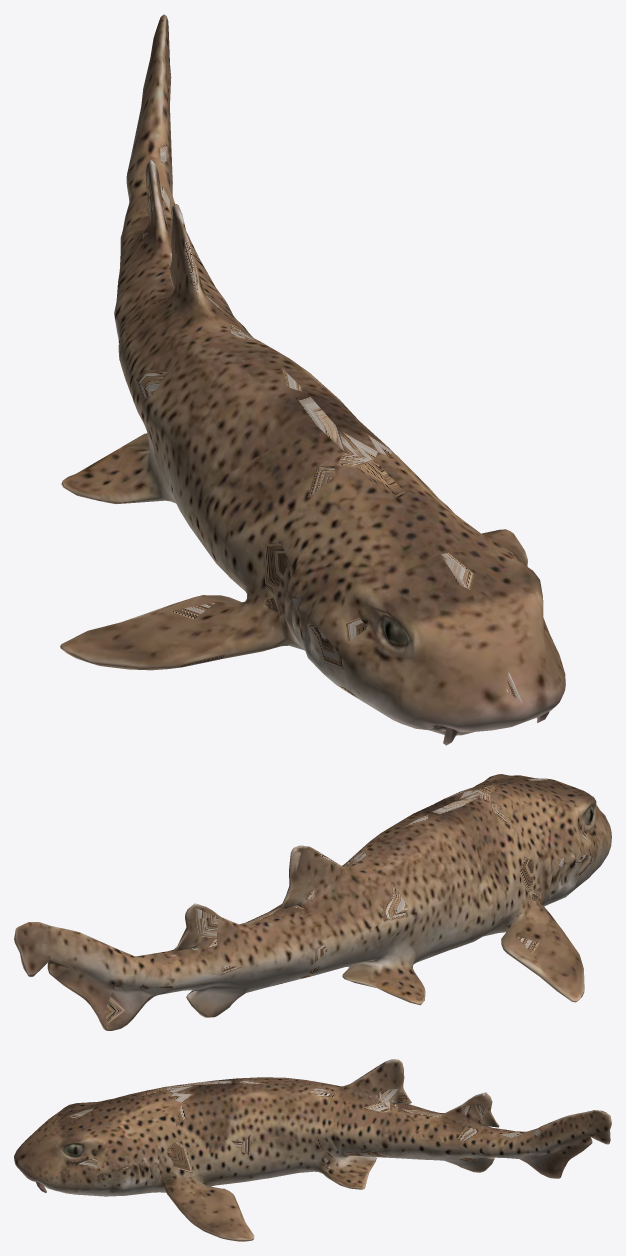
Rendered from kathaai.glb.
3 renders of one model, top to bottom at view 1: azimuth 30°, elevation 25°; view 2: azimuth 150°, elevation 25°; view 3: azimuth 270°, elevation 25°, orthographic. The views are drawn at different scales.
Visible parts, largest first — view 1: tripo_node_42ee4ac4-c002-485c-8d29-36fcdc92afbe; view 2: tripo_node_42ee4ac4-c002-485c-8d29-36fcdc92afbe; view 3: tripo_node_42ee4ac4-c002-485c-8d29-36fcdc92afbe.
Part boxes in pixels (x1,y1,x2,y2): tripo_node_42ee4ac4-c002-485c-8d29-36fcdc92afbe: (60, 14, 565, 745); tripo_node_42ee4ac4-c002-485c-8d29-36fcdc92afbe: (14, 774, 611, 1030); tripo_node_42ee4ac4-c002-485c-8d29-36fcdc92afbe: (14, 1059, 611, 1241).
Bounding box in the file's own units: 2.11 × 1.2 × 4.69.
Materials: 1 (1 with a texture image).
